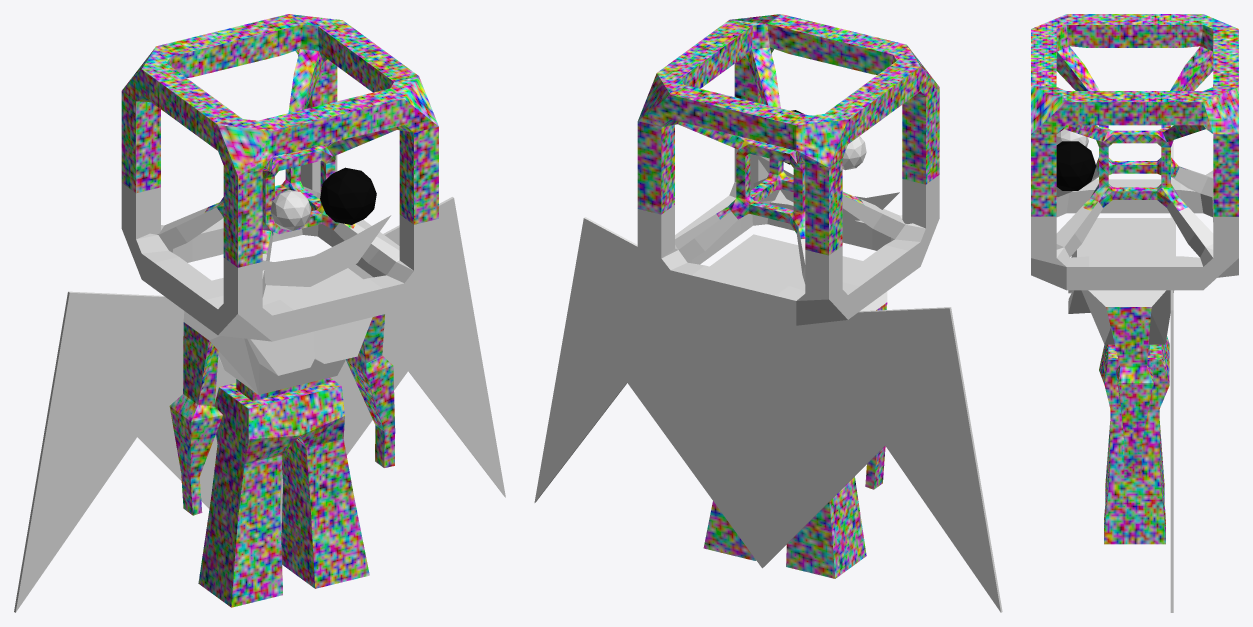
The model's file is EvilLighther.fbx.
The picture shows the model from 3 angles, left to right: view 1: azimuth 30°, elevation 25°; view 2: azimuth 150°, elevation 25°; view 3: azimuth 270°, elevation 25°; orthographic projection. The views are drawn at different scales.
Parts seen in each view (by area): view 1: Plane; view 2: Plane; view 3: Plane.
Part boxes in pixels (<box>): Plane: <box>14,14,505,612</box>; Plane: <box>534,14,1002,612</box>; Plane: <box>1031,14,1238,612</box>.
Size of the model in its own units: 201 by 200 by 82.58.
Materials: 4 (1 with a texture image).
